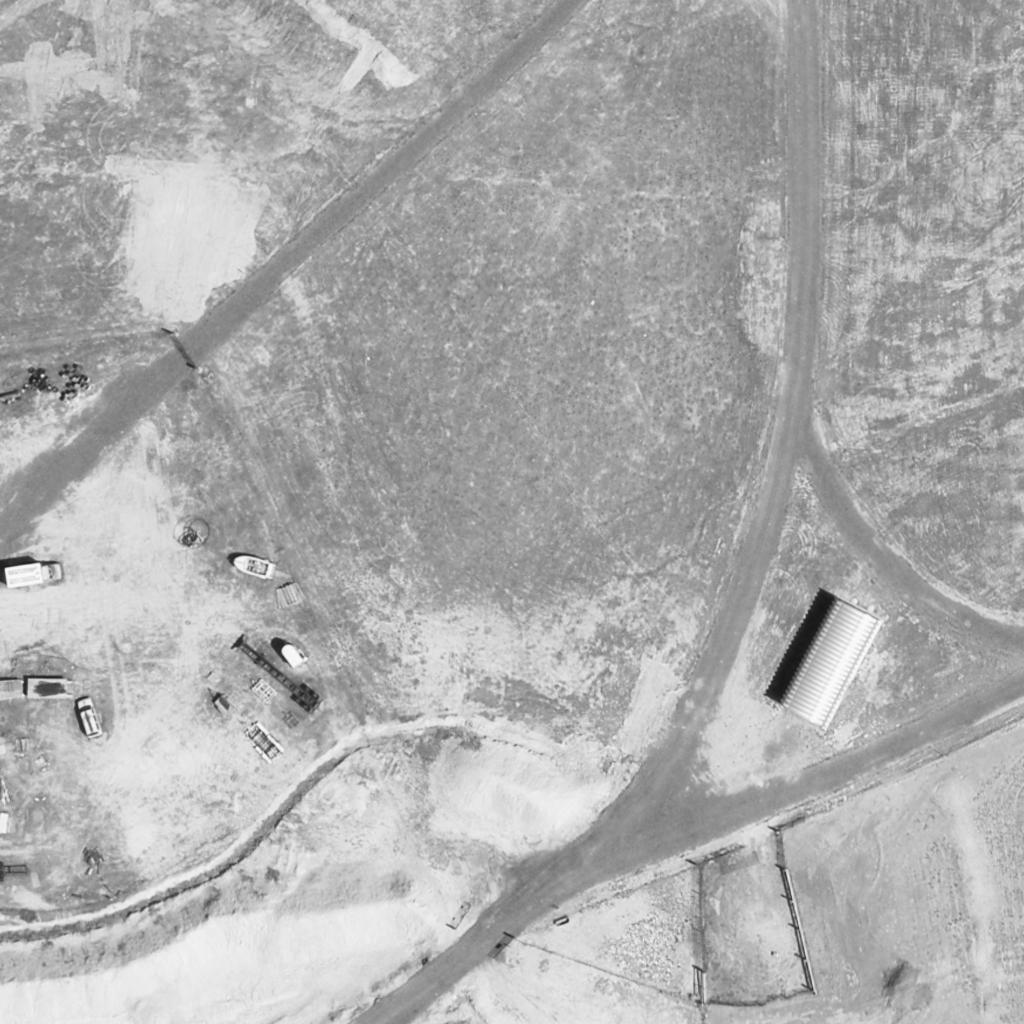vehicle: (228, 549, 280, 585), (4, 559, 64, 589), (74, 696, 104, 742)
